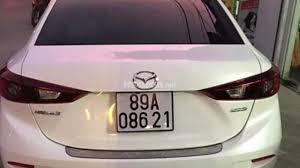number-plate: (117, 92, 174, 131)
